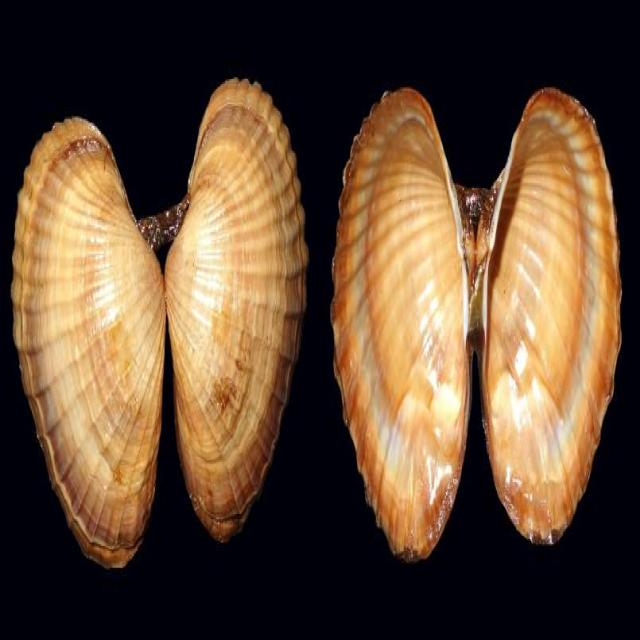Monodacna_colorata: (10, 77, 306, 571), (331, 81, 622, 562), (12, 112, 165, 562), (334, 86, 470, 559), (170, 81, 306, 544), (489, 87, 624, 550)
